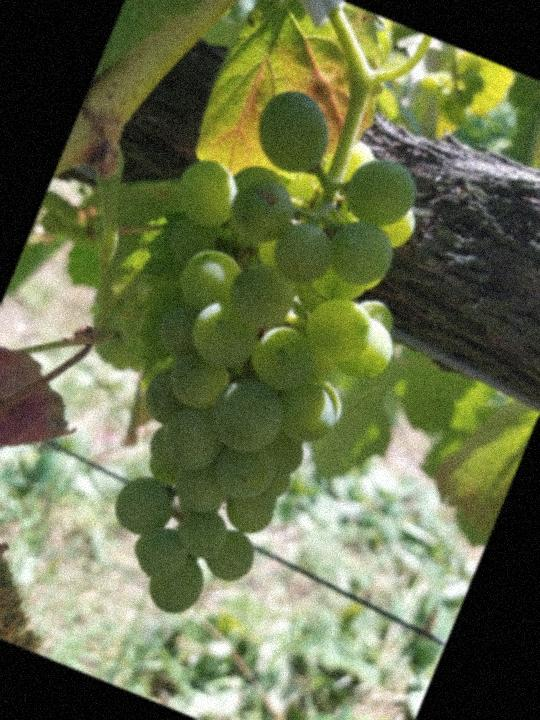grape: (26, 59, 475, 656)
